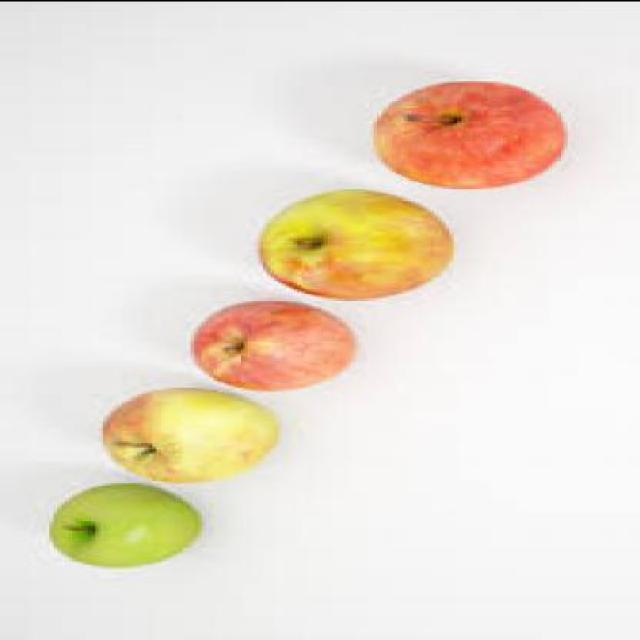BIODEGRADABLE: (365, 74, 564, 188), (255, 186, 454, 296), (99, 384, 278, 481), (187, 296, 355, 389), (42, 480, 198, 566)
